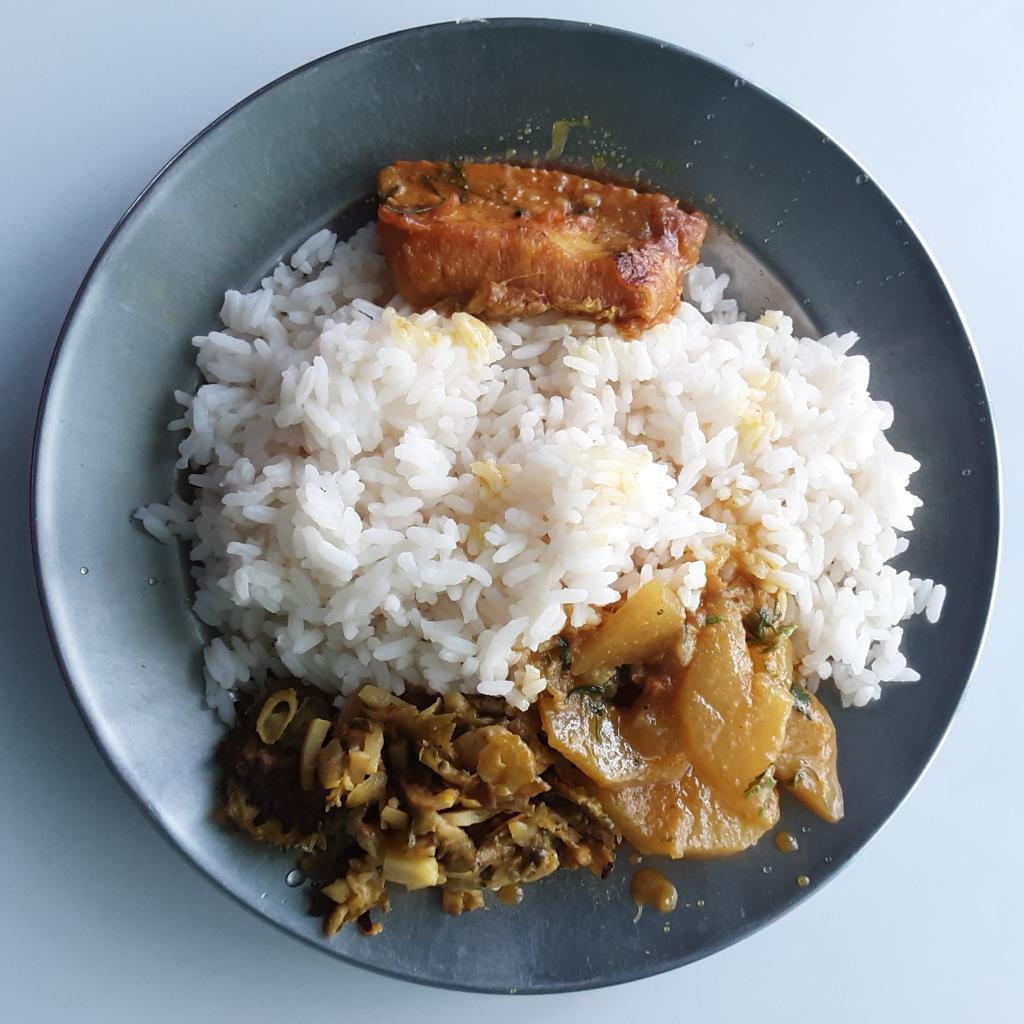dundol: (533, 569, 843, 858)
fish: (380, 152, 707, 315)
korola-vaji: (224, 672, 621, 941)
rice: (134, 216, 947, 723)
